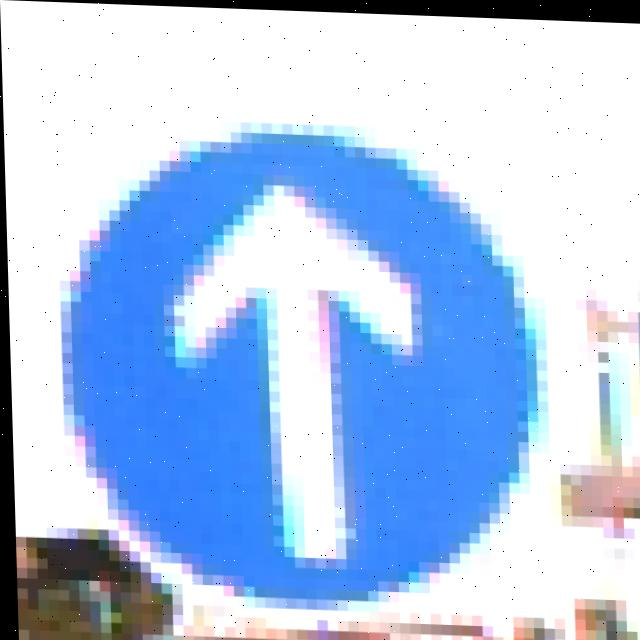compulsory_ahead: (72, 108, 545, 563)
